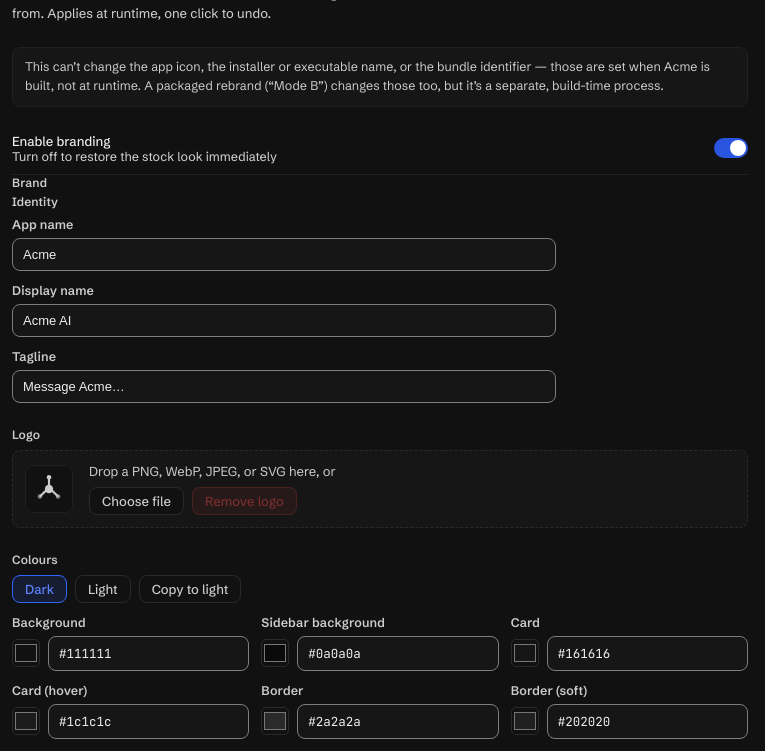
it: Revert › discards the draft and restores the last saved config
In the field labelled "App name": (284, 254) [12, 238, 556, 270], type "Something Else"
(page scrolled)
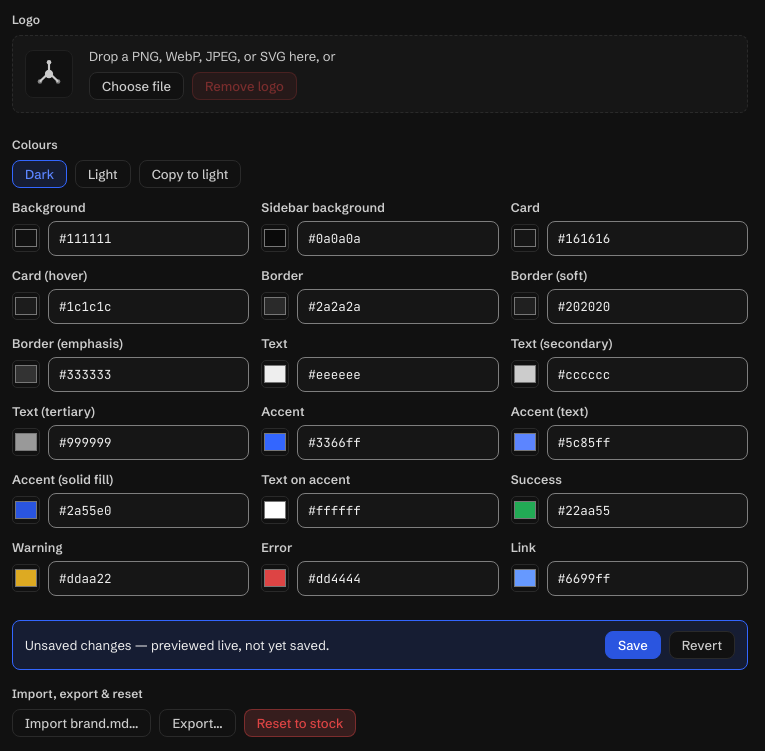
Expected: the text "Unsaved changes — previewed live, not yet saved." is shown, [25, 636, 330, 652]
Click the button "Revert": (702, 644) [669, 630, 735, 658]
(page scrolled)
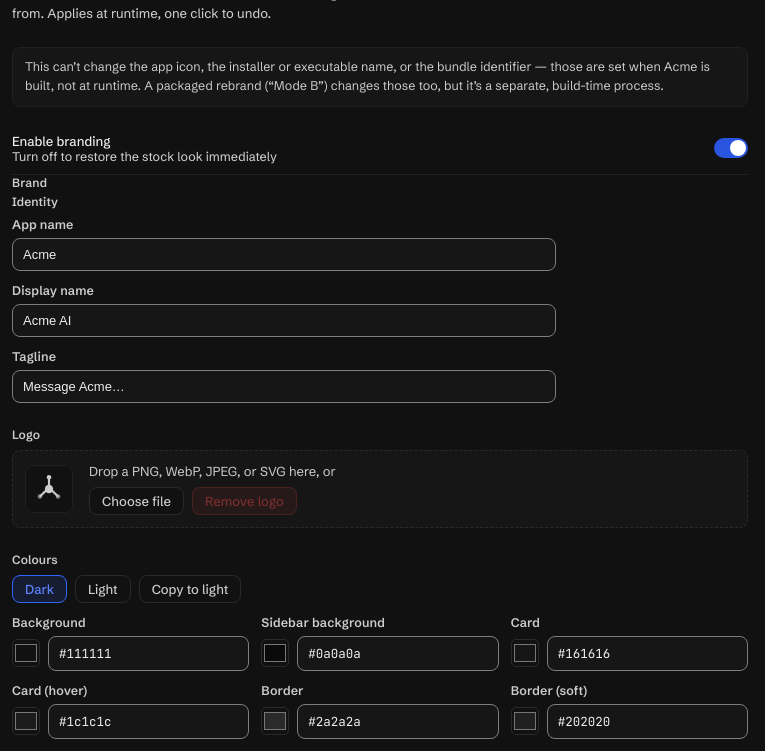
Expected: the field labelled "App name" holds "Acme", [12, 238, 556, 270]
Expected: the text "Unsaved changes" is gone
